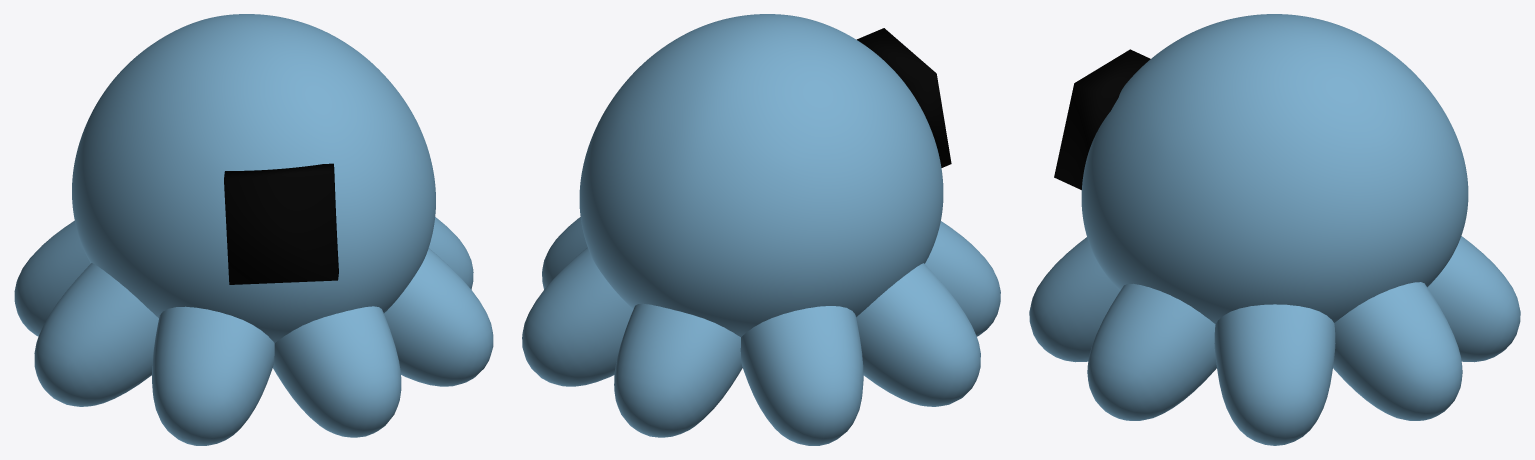
The model's file is plushie.gltf.
3 renders of one model, left to right at view 1: azimuth 30°, elevation 25°; view 2: azimuth 150°, elevation 25°; view 3: azimuth 270°, elevation 25°, orthographic.
Visible parts, largest first — view 1: body, eyes; view 2: body, eyes; view 3: body, eyes.
Boxes of the visible parts, bbox=[...] form: body: bbox=[14, 14, 493, 445]; eyes: bbox=[224, 163, 338, 284]; body: bbox=[522, 14, 1000, 445]; eyes: bbox=[856, 28, 951, 167]; body: bbox=[1029, 14, 1520, 445]; eyes: bbox=[1054, 49, 1150, 189].
Size of the model in its own units: 2.51 by 1.85 by 2.51.
2 materials, 1 textured.
